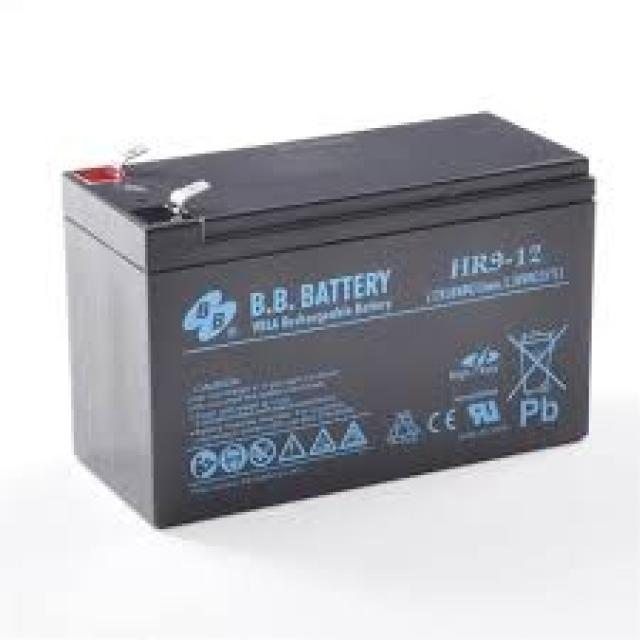Battery: (29, 89, 625, 562)
